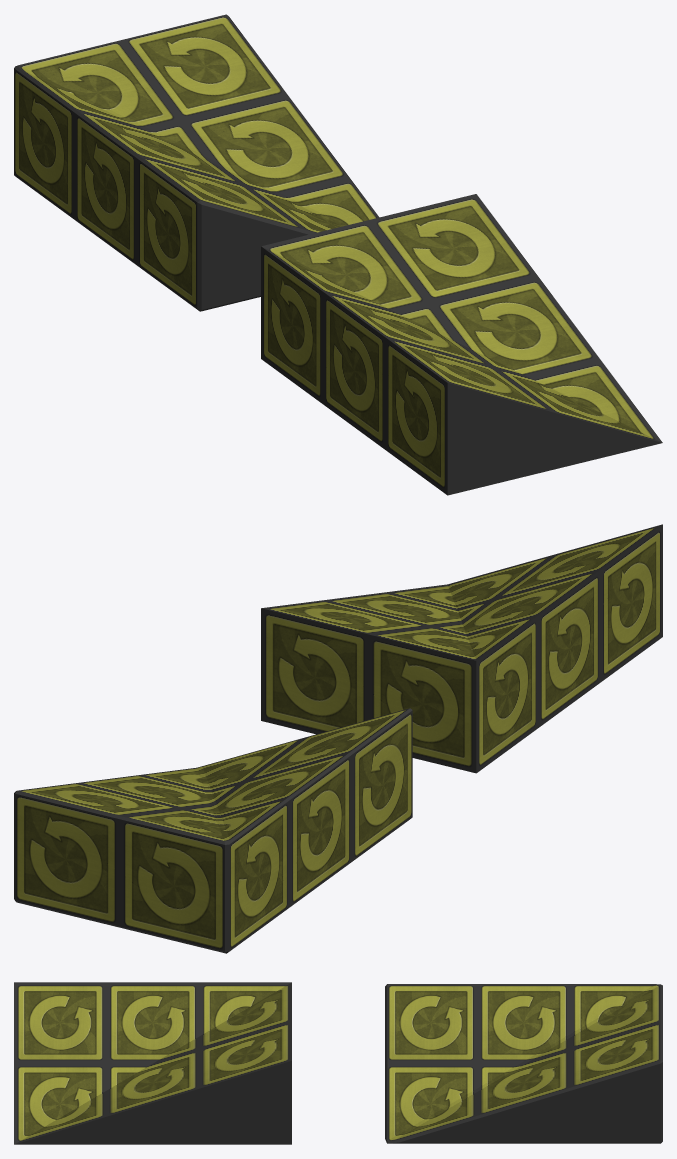
The model's file is slope.insideCorner.2x3.fbx.
The picture shows the model from 3 angles, top to bottom: view 1: azimuth 30°, elevation 25°; view 2: azimuth 150°, elevation 25°; view 3: azimuth 270°, elevation 25°; orthographic projection. The views are drawn at different scales.
Visible parts, largest first — view 1: MESH slope.insideCorner.2x3, MESH slope.insideCorner.2x3.c; view 2: MESH slope.insideCorner.2x3.c, MESH slope.insideCorner.2x3; view 3: MESH slope.insideCorner.2x3, MESH slope.insideCorner.2x3.c.
Part boxes in pixels (left/top/right/bottom): MESH slope.insideCorner.2x3: left=261, top=194, right=662, bottom=495; MESH slope.insideCorner.2x3.c: left=14, top=14, right=379, bottom=311; MESH slope.insideCorner.2x3.c: left=14, top=708, right=412, bottom=953; MESH slope.insideCorner.2x3: left=261, top=524, right=662, bottom=773; MESH slope.insideCorner.2x3: left=14, top=982, right=291, bottom=1144; MESH slope.insideCorner.2x3.c: left=385, top=984, right=662, bottom=1143.
Size of what is drawn, in the model's own units: 200 by 100 by 700.
